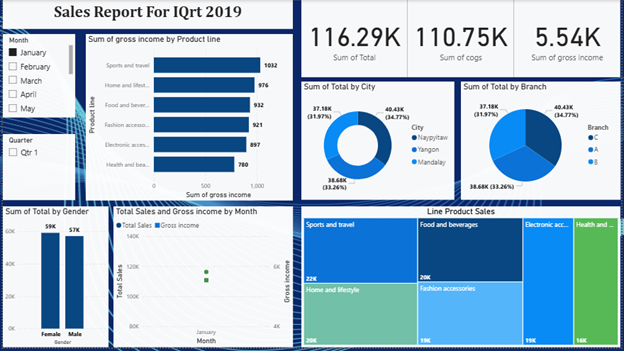

What the dashboard file says about the page in this screenshot:
{"tool":"powerbi","page":{"name":"Page 1","canvas":[1280,720],"ordinal":0},"visuals":[{"type":"card","fields":{"Values":["Sum(supermarket_sales - Sheet1.gross income)"]},"box":[1059.4,0,220.4,160.2],"z":0},{"type":"card","fields":{"Values":["Sum(supermarket_sales - Sheet1.Total)"]},"box":[618.6,0,220.4,160.2],"z":1000},{"type":"card","fields":{"Values":["Sum(supermarket_sales - Sheet1.cogs)"]},"box":[839,0,220.4,160.2],"z":2000},{"type":"pieChart","fields":{"Category":["supermarket_sales - Sheet1.Branch"],"Y":["Sum(supermarket_sales - Sheet1.Total)"]},"box":[949.2,169,330.6,245.4],"z":3000},{"type":"donutChart","fields":{"Category":["supermarket_sales - Sheet1.City"],"Y":["Sum(supermarket_sales - Sheet1.Total)"]},"box":[618.6,169,317.4,245.4],"z":4000},{"type":"treemap","title":"Line Product Sales","fields":{"Group":["supermarket_sales - Sheet1.Product line"],"Values":["Sum(supermarket_sales - Sheet1.Total)"]},"box":[618.6,427.6,661.2,292.4],"z":5000},{"type":"clusteredColumnChart","fields":{"Category":["supermarket_sales - Sheet1.Gender"],"Y":["Sum(supermarket_sales - Sheet1.Total)"]},"box":[0,427.6,218.9,292.4],"z":6000},{"type":"slicer","fields":{"Values":["supermarket_sales - Sheet1.Date.Variation.Date Hierarchy.Month"]},"box":[0,70.5,149.9,173.4],"z":7000},{"type":"lineChart","fields":{"Category":["supermarket_sales - Sheet1.Date.Variation.Date Hierarchy.Month"],"Y":["Sum(supermarket_sales - Sheet1.Total)"],"Y2":["Sum(supermarket_sales - Sheet1.gross income)"]},"box":[229.2,427.6,371.8,292.4],"z":8000},{"type":"clusteredBarChart","fields":{"Category":["supermarket_sales - Sheet1.Product line"],"Y":["Sum(supermarket_sales - Sheet1.gross income)"]},"box":[171.9,70.5,429.1,345.3],"z":9000},{"type":"textbox","box":[0,0,601,60.2],"z":10000},{"type":"slicer","fields":{"Values":["supermarket_sales - Sheet1.Date.Variation.Date Hierarchy.Quarter"]},"box":[0,277.7,149.9,136.7],"z":11000}]}

Visuals, with their boxes in screenshot pixels (x1, y1, x2, y2), scaled from the page's 1280x720 canvas onto the 624x351 screenshot:
card - Sum(supermarket_sales - Sheet1.gross income): <bbox>516, 0, 623, 78</bbox>
card - Sum(supermarket_sales - Sheet1.Total): <bbox>302, 0, 409, 78</bbox>
card - Sum(supermarket_sales - Sheet1.cogs): <bbox>409, 0, 516, 78</bbox>
pieChart - supermarket_sales - Sheet1.Branch x Sum(supermarket_sales - Sheet1.Total): <bbox>463, 82, 623, 202</bbox>
donutChart - supermarket_sales - Sheet1.City x Sum(supermarket_sales - Sheet1.Total): <bbox>302, 82, 456, 202</bbox>
"Line Product Sales" treemap: <bbox>302, 208, 623, 350</bbox>
clusteredColumnChart - supermarket_sales - Sheet1.Gender x Sum(supermarket_sales - Sheet1.Total): <bbox>0, 208, 107, 350</bbox>
slicer - supermarket_sales - Sheet1.Date.Variation.Date Hierarchy.Month: <bbox>0, 34, 73, 119</bbox>
lineChart - supermarket_sales - Sheet1.Date.Variation.Date Hierarchy.Month x Sum(supermarket_sales - Sheet1.Total): <bbox>112, 208, 293, 350</bbox>
clusteredBarChart - supermarket_sales - Sheet1.Product line x Sum(supermarket_sales - Sheet1.gross income): <bbox>84, 34, 293, 203</bbox>
textbox: <bbox>0, 0, 293, 29</bbox>
slicer - supermarket_sales - Sheet1.Date.Variation.Date Hierarchy.Quarter: <bbox>0, 135, 73, 202</bbox>
